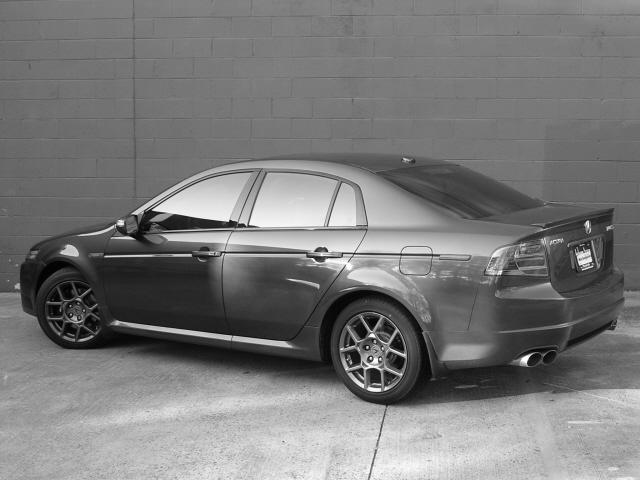car: (19, 151, 630, 404)
